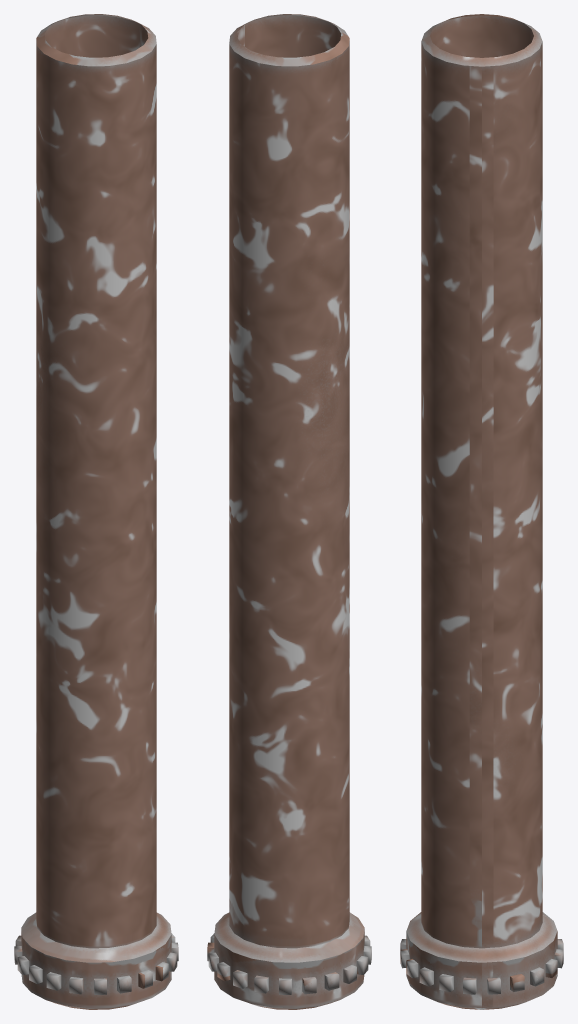
Rendered from pipe 2.fbx.
3 renders of one model, left to right at view 1: azimuth 30°, elevation 25°; view 2: azimuth 150°, elevation 25°; view 3: azimuth 270°, elevation 25°, orthographic.
Parts seen in each view (by area): view 1: Straight Pipe 1; view 2: Straight Pipe 1; view 3: Straight Pipe 1.
Part boxes in pixels (<box>): Straight Pipe 1: <box>14,14,178,1009</box>; Straight Pipe 1: <box>207,14,371,1009</box>; Straight Pipe 1: <box>400,14,563,1009</box>.
Size of the model in its own units: 31.45 by 201 by 31.45.
Materials: 1 (1 with a texture image).
